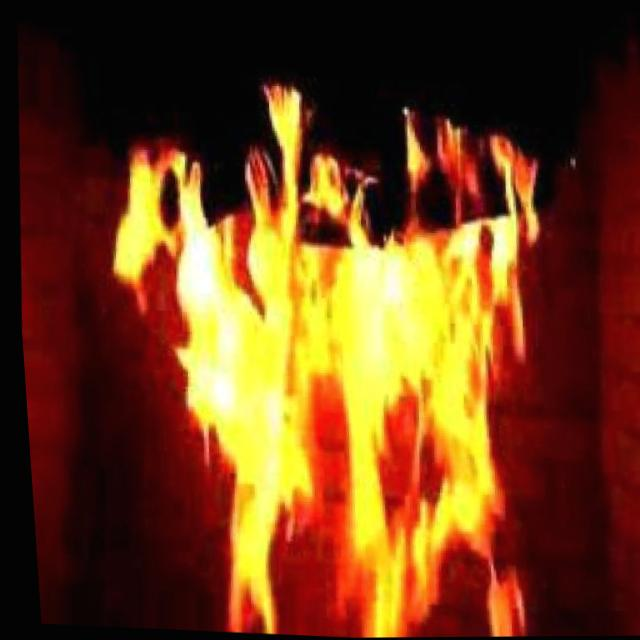helmet: (67, 61, 600, 640)
